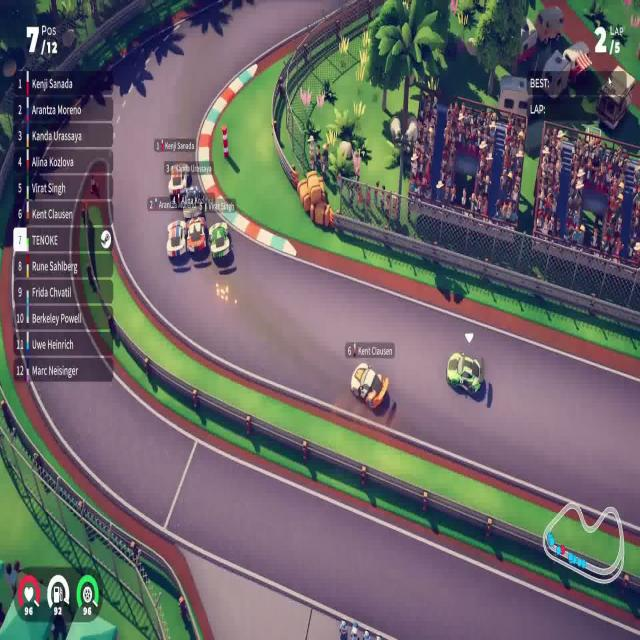car: (350, 361, 389, 410), (446, 349, 482, 396), (208, 221, 231, 261), (168, 157, 190, 198), (166, 218, 187, 260), (186, 214, 207, 256)
